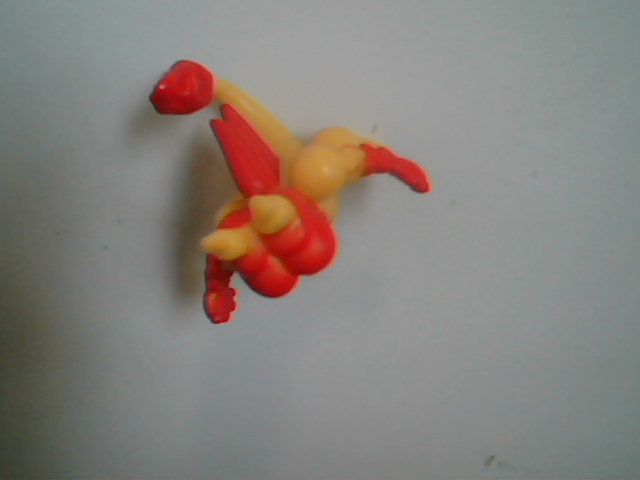magmar: (104, 18, 477, 386)
